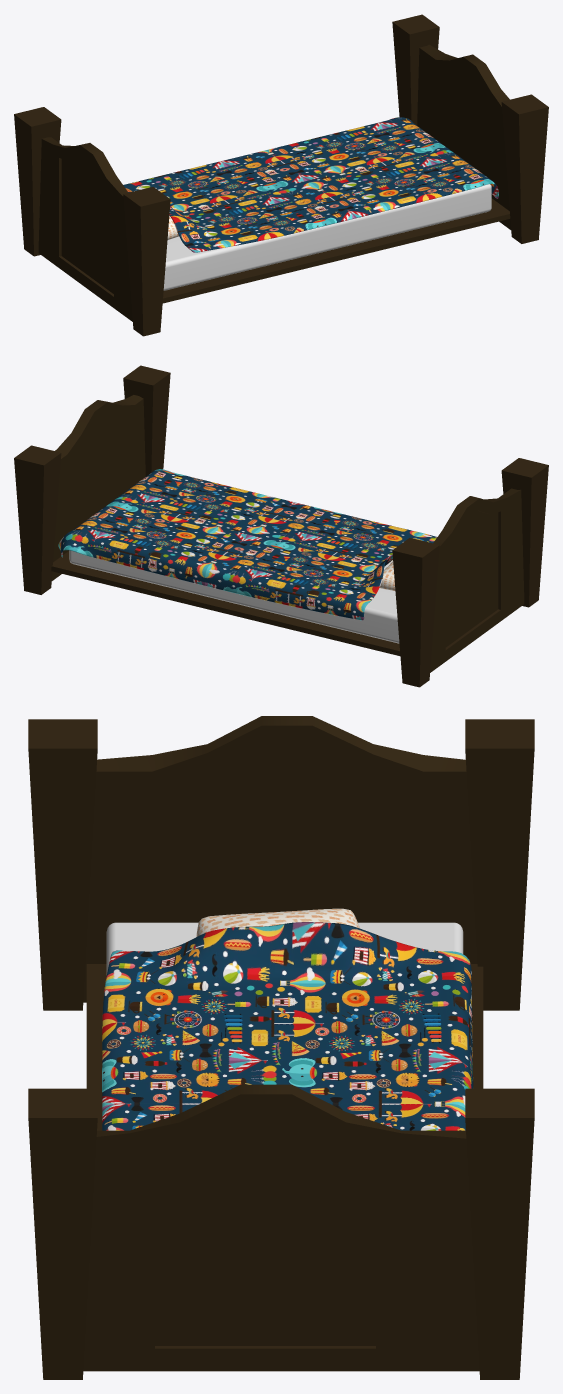
Rendered from normal_bed 1.fbx.
The picture shows the model from 3 angles, top to bottom: view 1: azimuth 30°, elevation 25°; view 2: azimuth 150°, elevation 25°; view 3: azimuth 270°, elevation 25°; orthographic projection. The views are drawn at different scales.
Parts seen in each view (by area): view 1: Bed, blanket, Matress; view 2: Bed, blanket, Matress; view 3: Bed, blanket, Matress, pillow.
Boxes of the visible parts, x1,y1,x2,y2 form: Bed: (14, 14, 548, 336); blanket: (123, 117, 498, 252); Matress: (163, 184, 491, 290); Bed: (14, 365, 548, 687); blanket: (58, 469, 437, 620); Matress: (69, 550, 399, 643); Bed: (28, 716, 534, 1379); blanket: (102, 922, 473, 1130); Matress: (106, 922, 463, 974); pillow: (196, 908, 359, 936).
Bounding box in the file's own units: 15.11 × 4.98 × 8.11.
